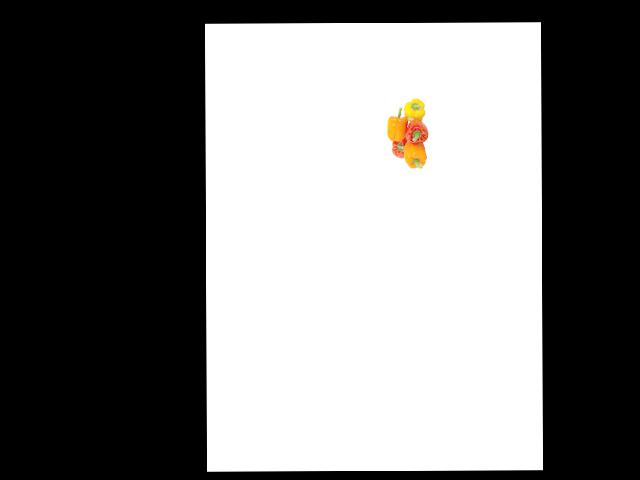bell_pepper: (401, 140, 429, 174)
